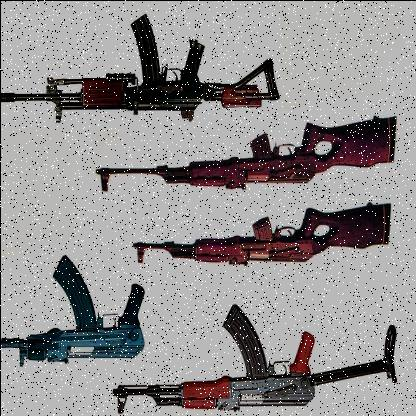rifle: (111, 304, 404, 416), (0, 13, 283, 120), (94, 108, 395, 194), (127, 198, 395, 278), (0, 252, 147, 371)
